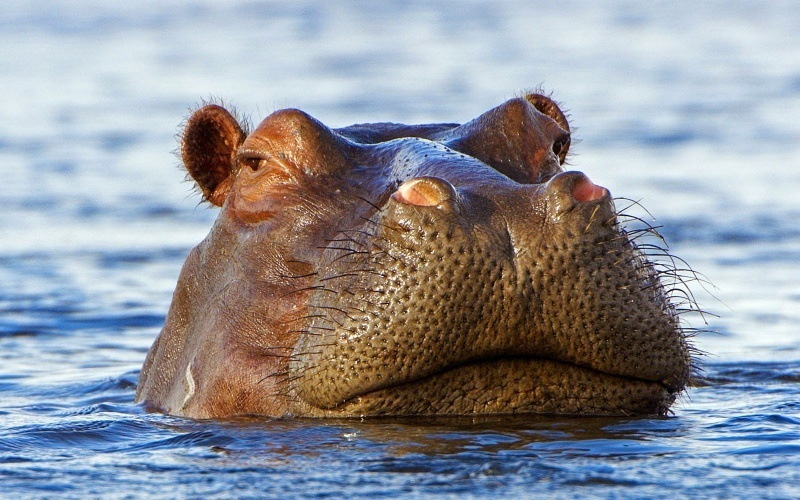hipopotamo: (107, 56, 727, 444)
